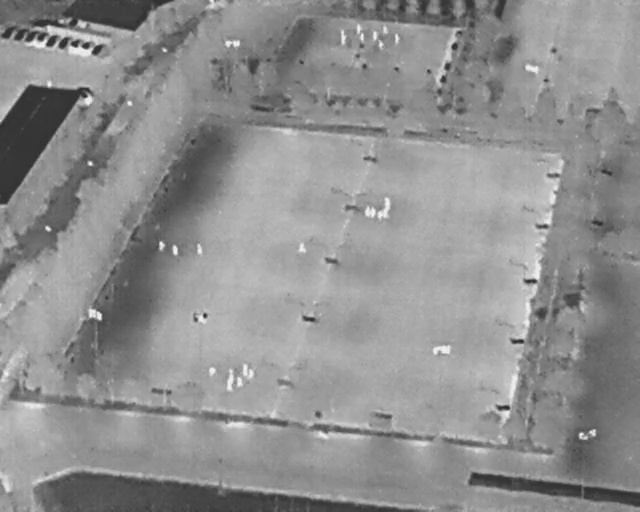Car: (22, 26, 40, 46), (12, 26, 29, 43), (56, 33, 72, 51), (43, 31, 59, 48), (90, 41, 106, 57), (1, 23, 16, 39), (81, 36, 94, 51), (69, 35, 83, 48), (36, 29, 48, 43)
Person: (196, 242, 204, 256), (297, 242, 306, 253), (236, 376, 244, 388), (382, 208, 390, 219), (208, 366, 216, 377), (248, 369, 255, 381), (226, 378, 232, 391), (242, 364, 248, 377), (158, 240, 165, 251), (385, 197, 391, 209), (364, 205, 370, 217), (370, 206, 376, 218), (377, 211, 383, 223), (372, 30, 378, 41), (382, 24, 388, 35), (394, 33, 400, 44), (341, 35, 347, 46), (172, 244, 178, 255), (228, 368, 234, 379), (378, 40, 384, 50), (356, 24, 361, 34), (360, 33, 365, 43), (340, 29, 344, 38)
